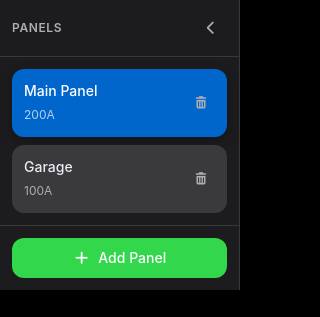
Scenario: PanelDrawer › inline renaming › should cancel edit on Escape
This screenshot has width=320, height=317.
Double-click the text "Main Panel" at {"x": 61, "y": 90}, box [24,82,98,99]
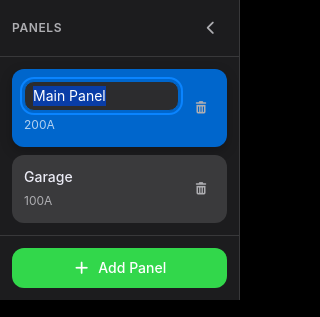
Replace the text in the field with "Changed Name" at {"x": 102, "y": 96}, box [24,81,179,111]
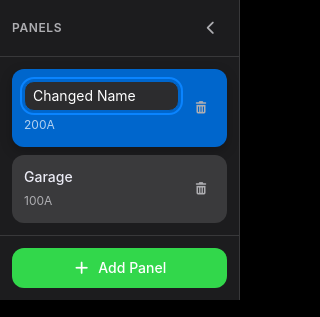
Press Escape
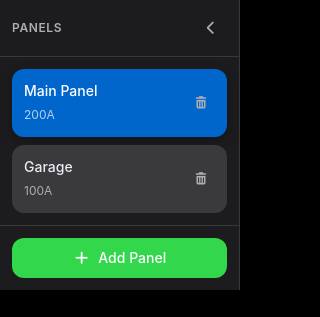
Expected: the text "Main Panel" is shown, [24,82,98,99]
